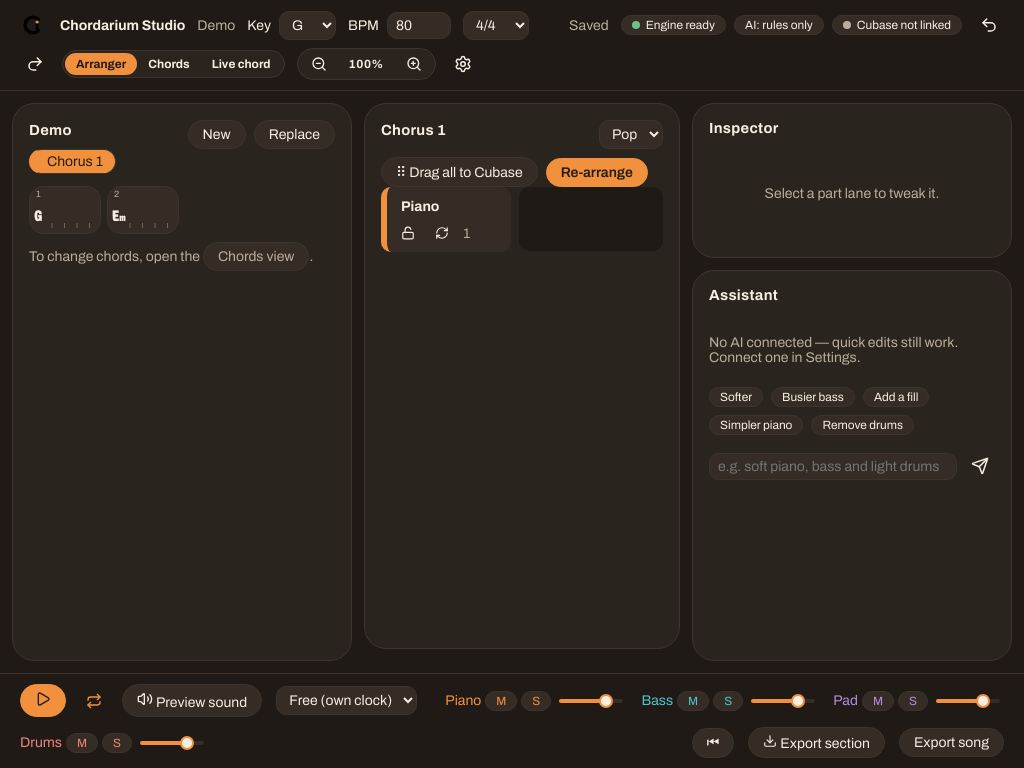
it: App › chord board › lights up the bar and chord that is playing, and shows it in the toolbar
Click the button "Chords" at [169, 64], box [137,53,201,75]
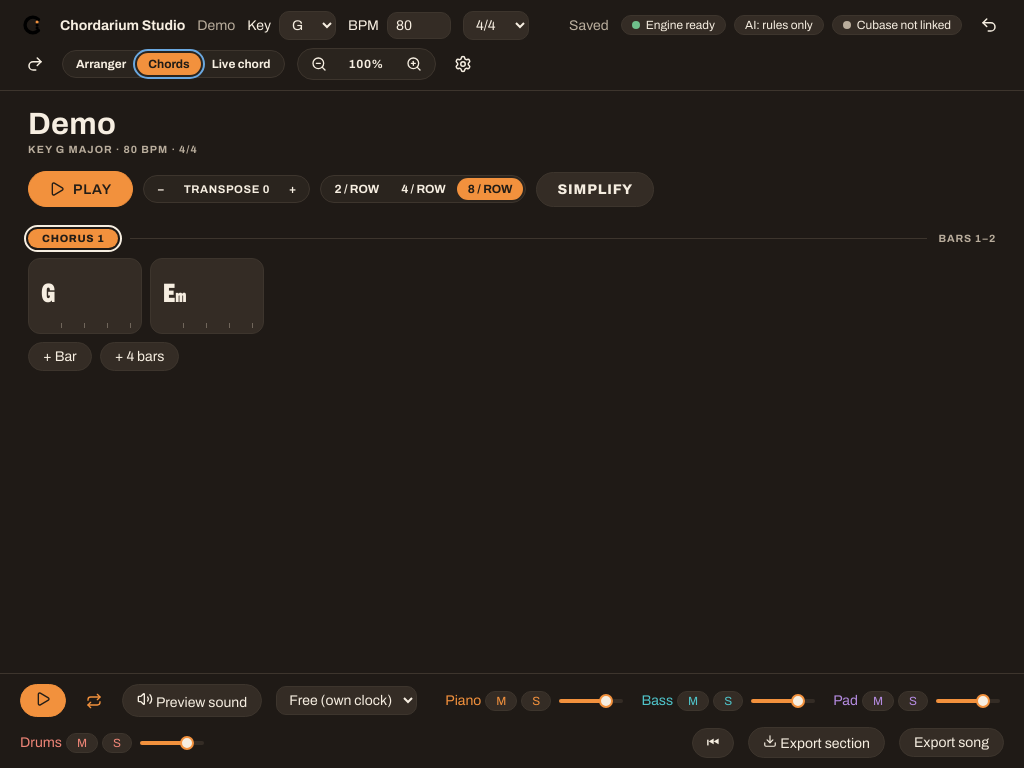
Click the button with aria-label "Play selected section" at [80, 189], box [28,171,133,207]
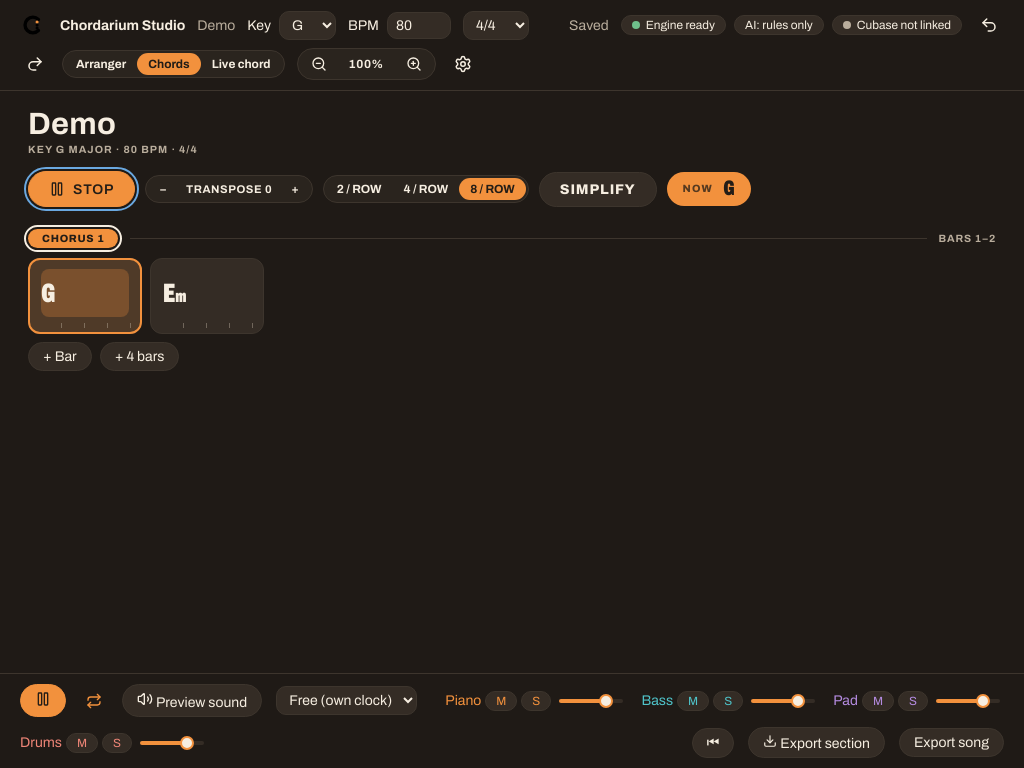
Check: the 1st element with class "slot" is shown, box [41,269,129,317]
Check: the element with class "now" is shown, box [28,258,142,334]
Check: the message named "Now playing G" is shown, box [666,172,751,206]
Click the button with aria-label "Stop preview" at [82, 189], box [28,171,135,207]
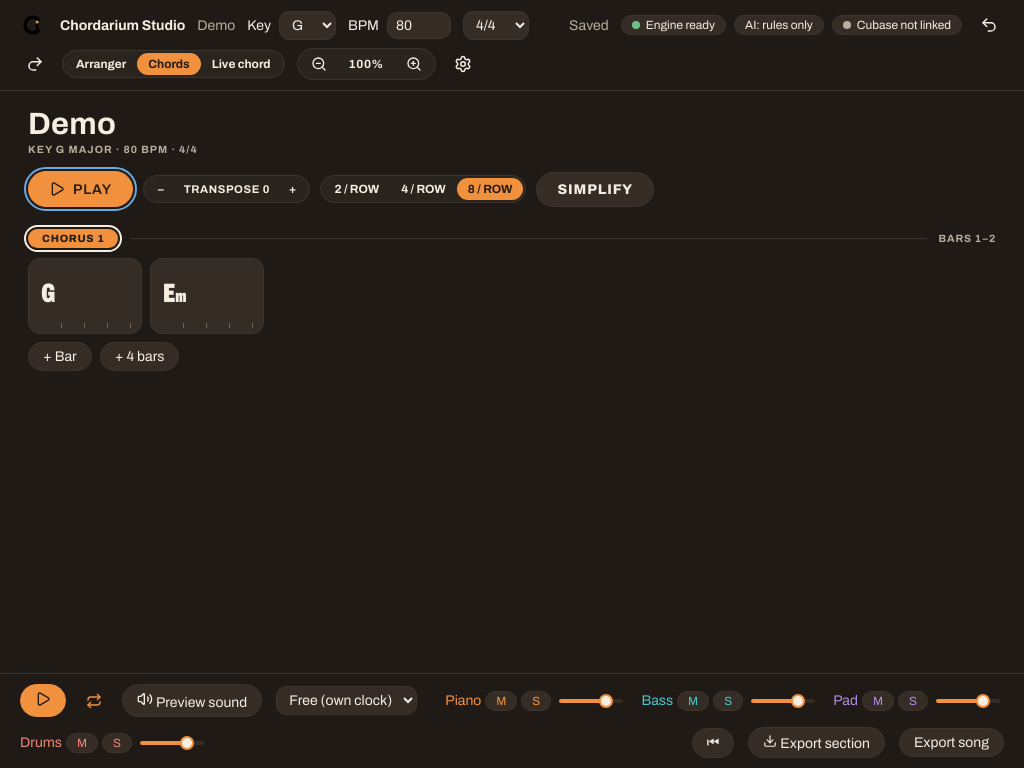
Check: the message with class "now" is gone
